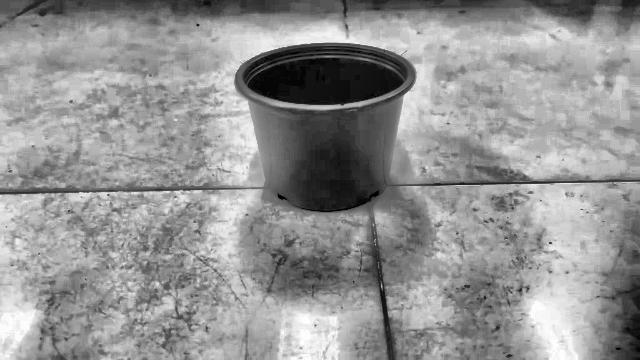pot: (236, 44, 415, 211)
